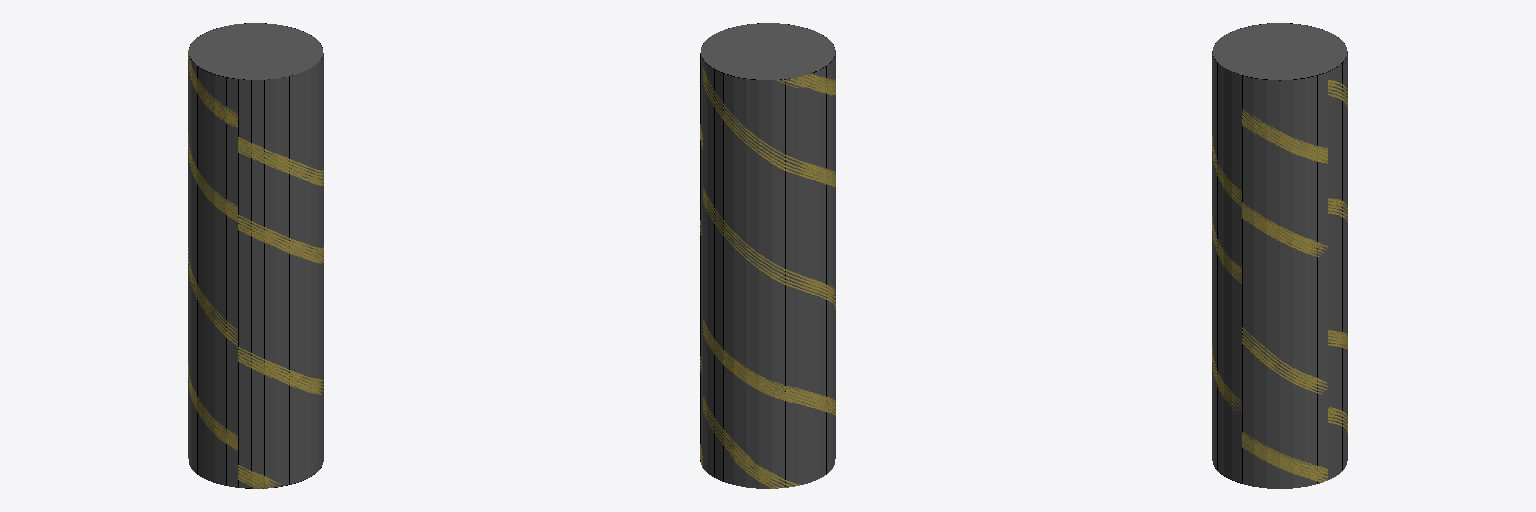
The picture shows the model from 3 angles: view 1: azimuth 30°, elevation 25°; view 2: azimuth 150°, elevation 25°; view 3: azimuth 270°, elevation 25°; orthographic projection.
Visible parts, largest first — view 1: lift_cabel_Cylinder.002; view 2: lift_cabel_Cylinder.002; view 3: lift_cabel_Cylinder.002.
Part boxes in pixels (x1,y1,x2,y2): lift_cabel_Cylinder.002: (188, 23, 323, 488); lift_cabel_Cylinder.002: (700, 23, 835, 488); lift_cabel_Cylinder.002: (1212, 23, 1347, 488).
Size of the model in its own units: 0.6 by 2 by 0.6.
Materials: 1 (1 with a texture image).